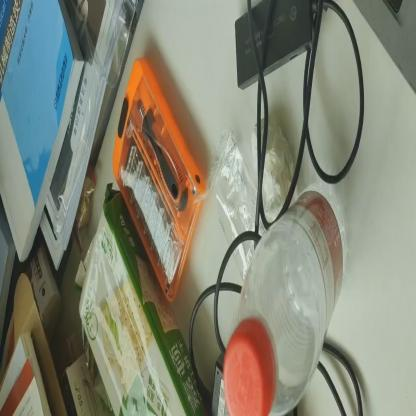Glass Bottle: (221, 180, 345, 416)
